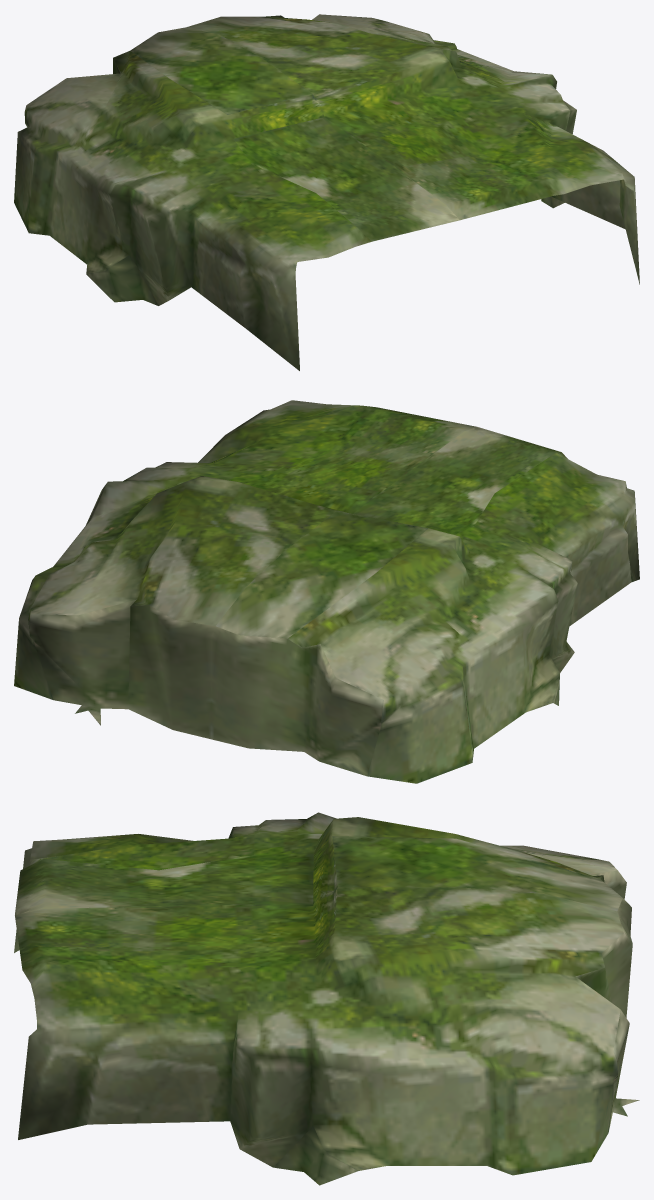
Rendered from S_Rock_Green056_1060_2.fbx.
3 views of the same model, one above another, from view 1: azimuth 30°, elevation 25°; view 2: azimuth 150°, elevation 25°; view 3: azimuth 270°, elevation 25° (orthographic). The views are drawn at different scales.
Parts seen in each view (by area): view 1: S_Rock_Green056_1060_2; view 2: S_Rock_Green056_1060_2; view 3: S_Rock_Green056_1060_2.
Part boxes in pixels (left/top/right/bottom): S_Rock_Green056_1060_2: left=14, top=14, right=639, bottom=370; S_Rock_Green056_1060_2: left=14, top=400, right=639, bottom=783; S_Rock_Green056_1060_2: left=14, top=812, right=639, bottom=1185.
Size of the model in its own units: 1303 by 407 by 1333.
